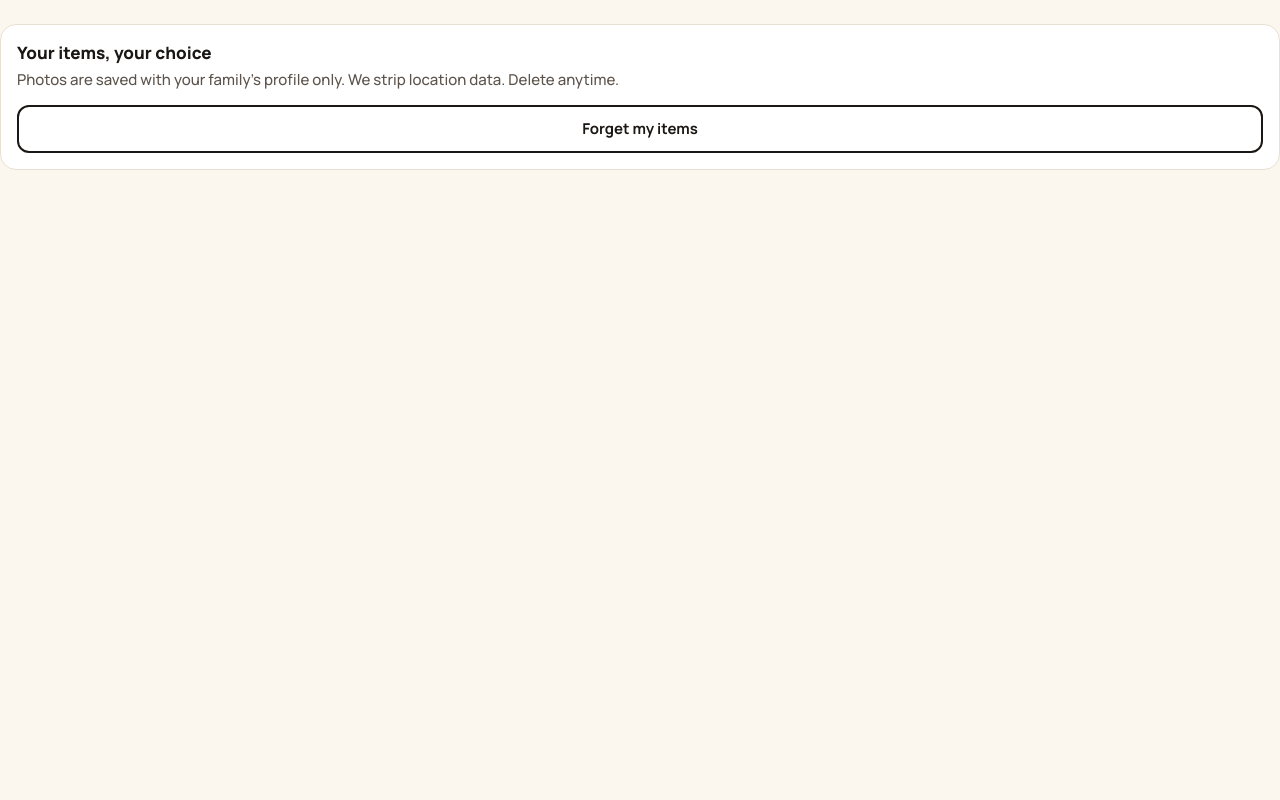
it: ForgetItemsCard › confirming deletes for this family and says how many were removed
The image size is (1280, 800).
Click the button "Forget my items": (640, 129) [17,105,1263,153]
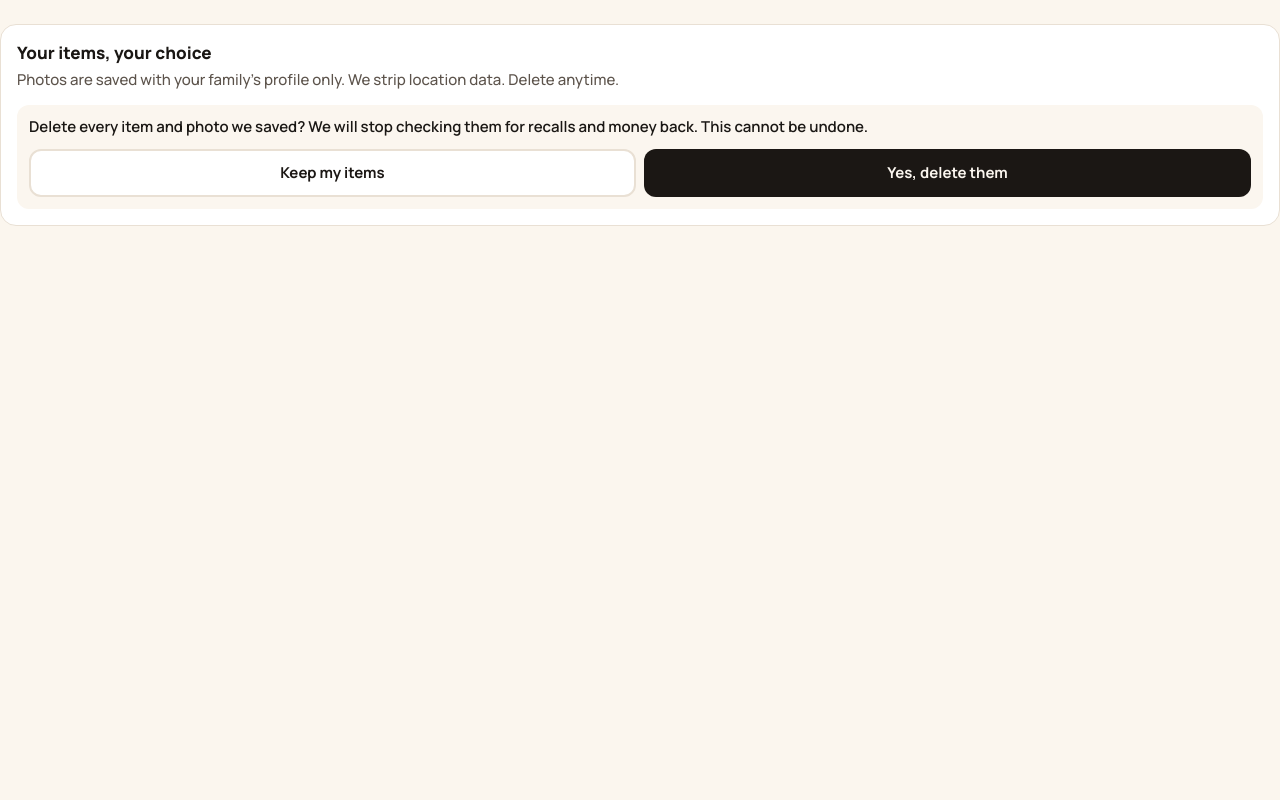
Click the button "Yes, delete them": (948, 173) [644,149,1251,197]
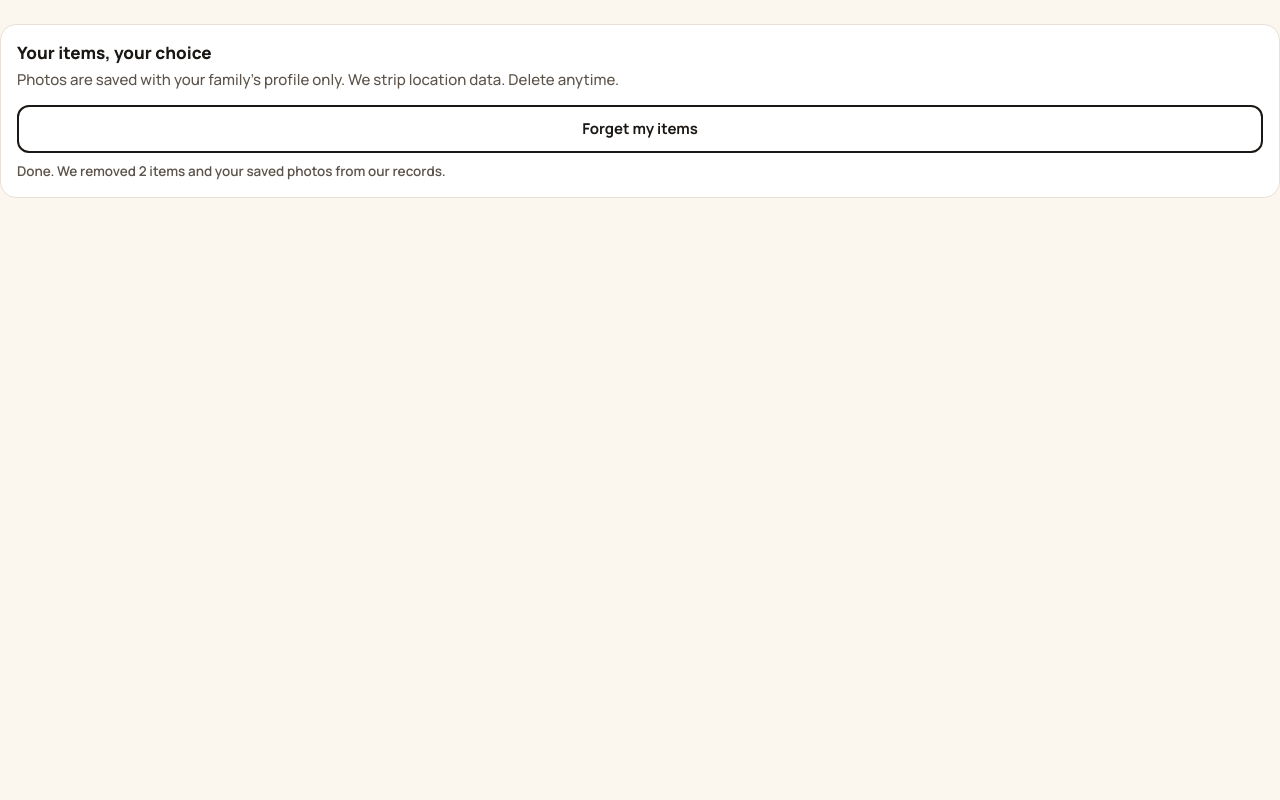
Expected: the message shows "removed 2 items", [17,162,446,180]
Expected: the dialog is gone
